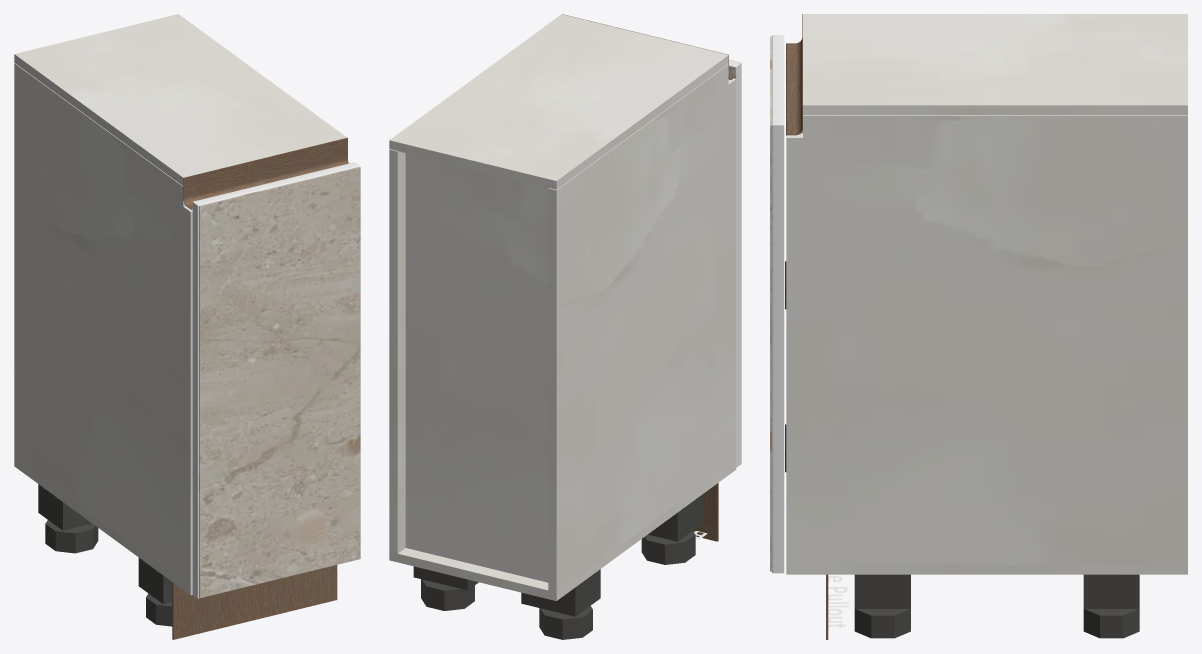
The model's file is BCBP1PS_LH_CJ (H720xW300xD560).glb.
3 views of the same model, side by side, from view 1: azimuth 30°, elevation 25°; view 2: azimuth 150°, elevation 25°; view 3: azimuth 270°, elevation 25° (orthographic). The views are drawn at different scales.
Size of what is drawn, in the model's own units: 0.3 by 0.82 by 0.5809.
Materials: 9 (3 with a texture image).
